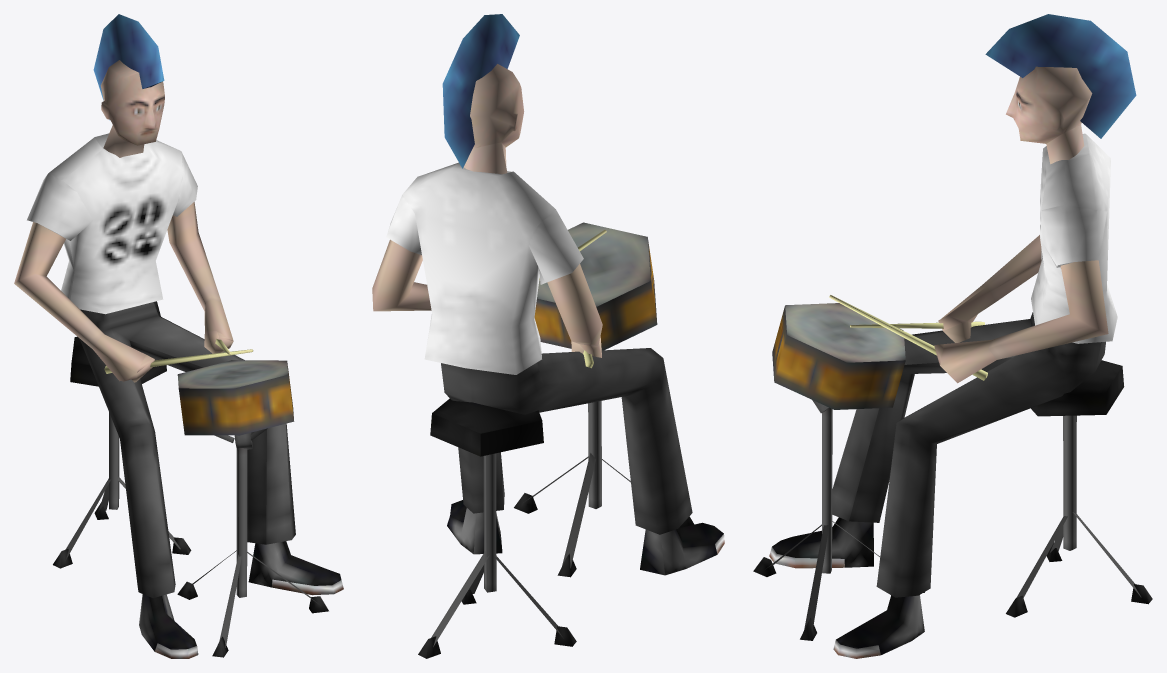
File: rockband.ico.obj
3 views of the same model, side by side, from view 1: azimuth 30°, elevation 25°; view 2: azimuth 150°, elevation 25°; view 3: azimuth 270°, elevation 25° (orthographic). The views are drawn at different scales.
Size of the model in its own units: 1.18 by 2.63 by 1.63.
Materials: 1 (1 with a texture image).
